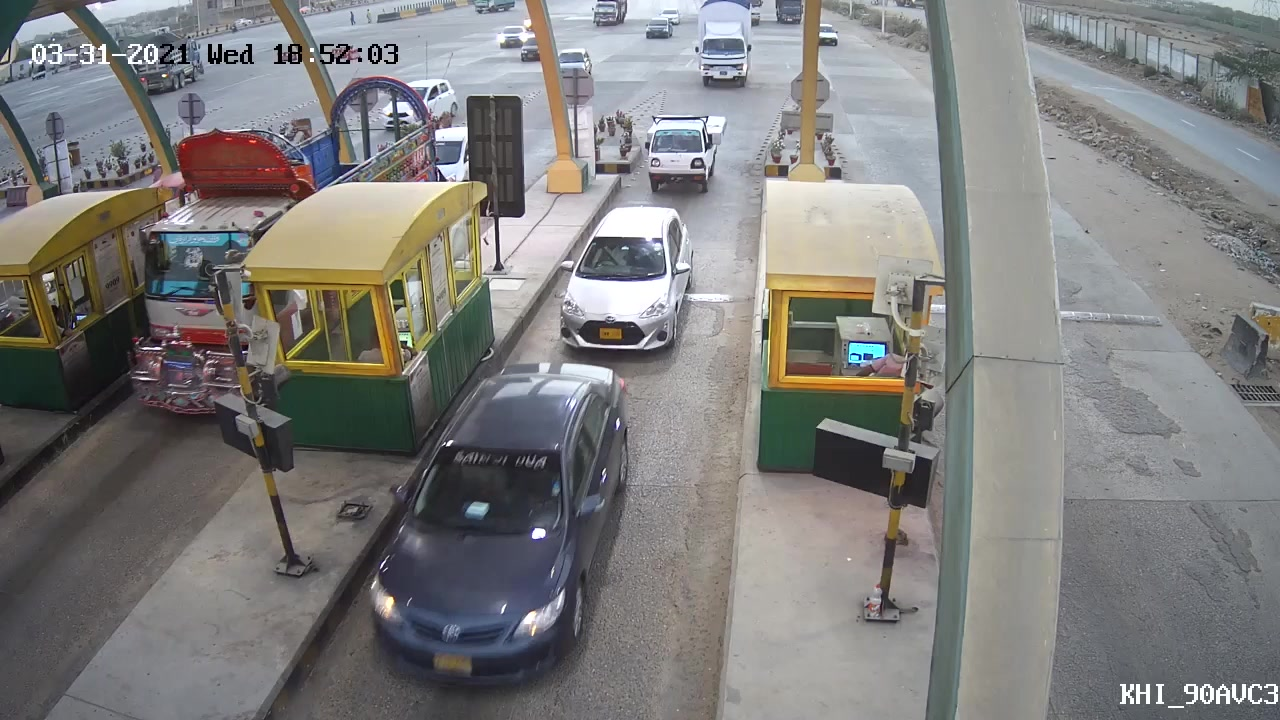F1: (552, 194, 701, 354)
F2: (641, 98, 732, 190)
